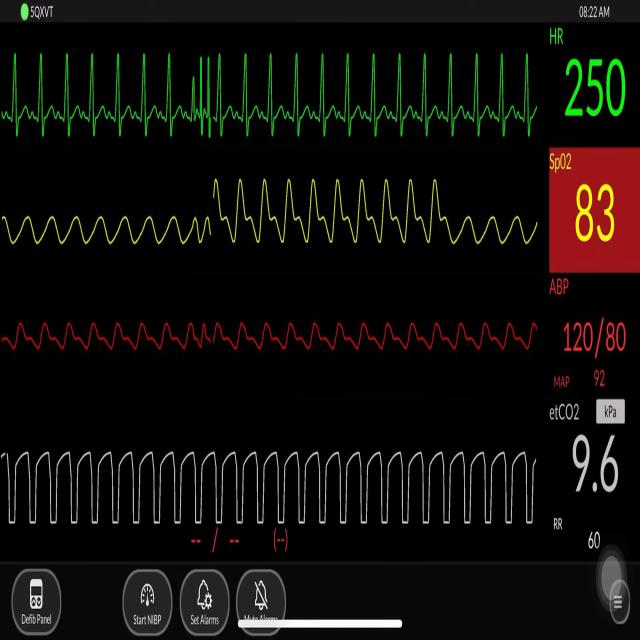danger: (190, 43, 230, 141)
